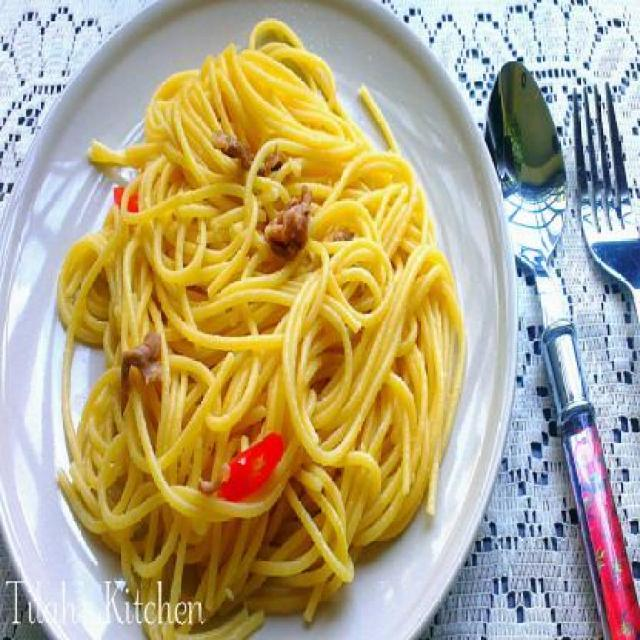Oil pasta: (66, 51, 528, 640)
